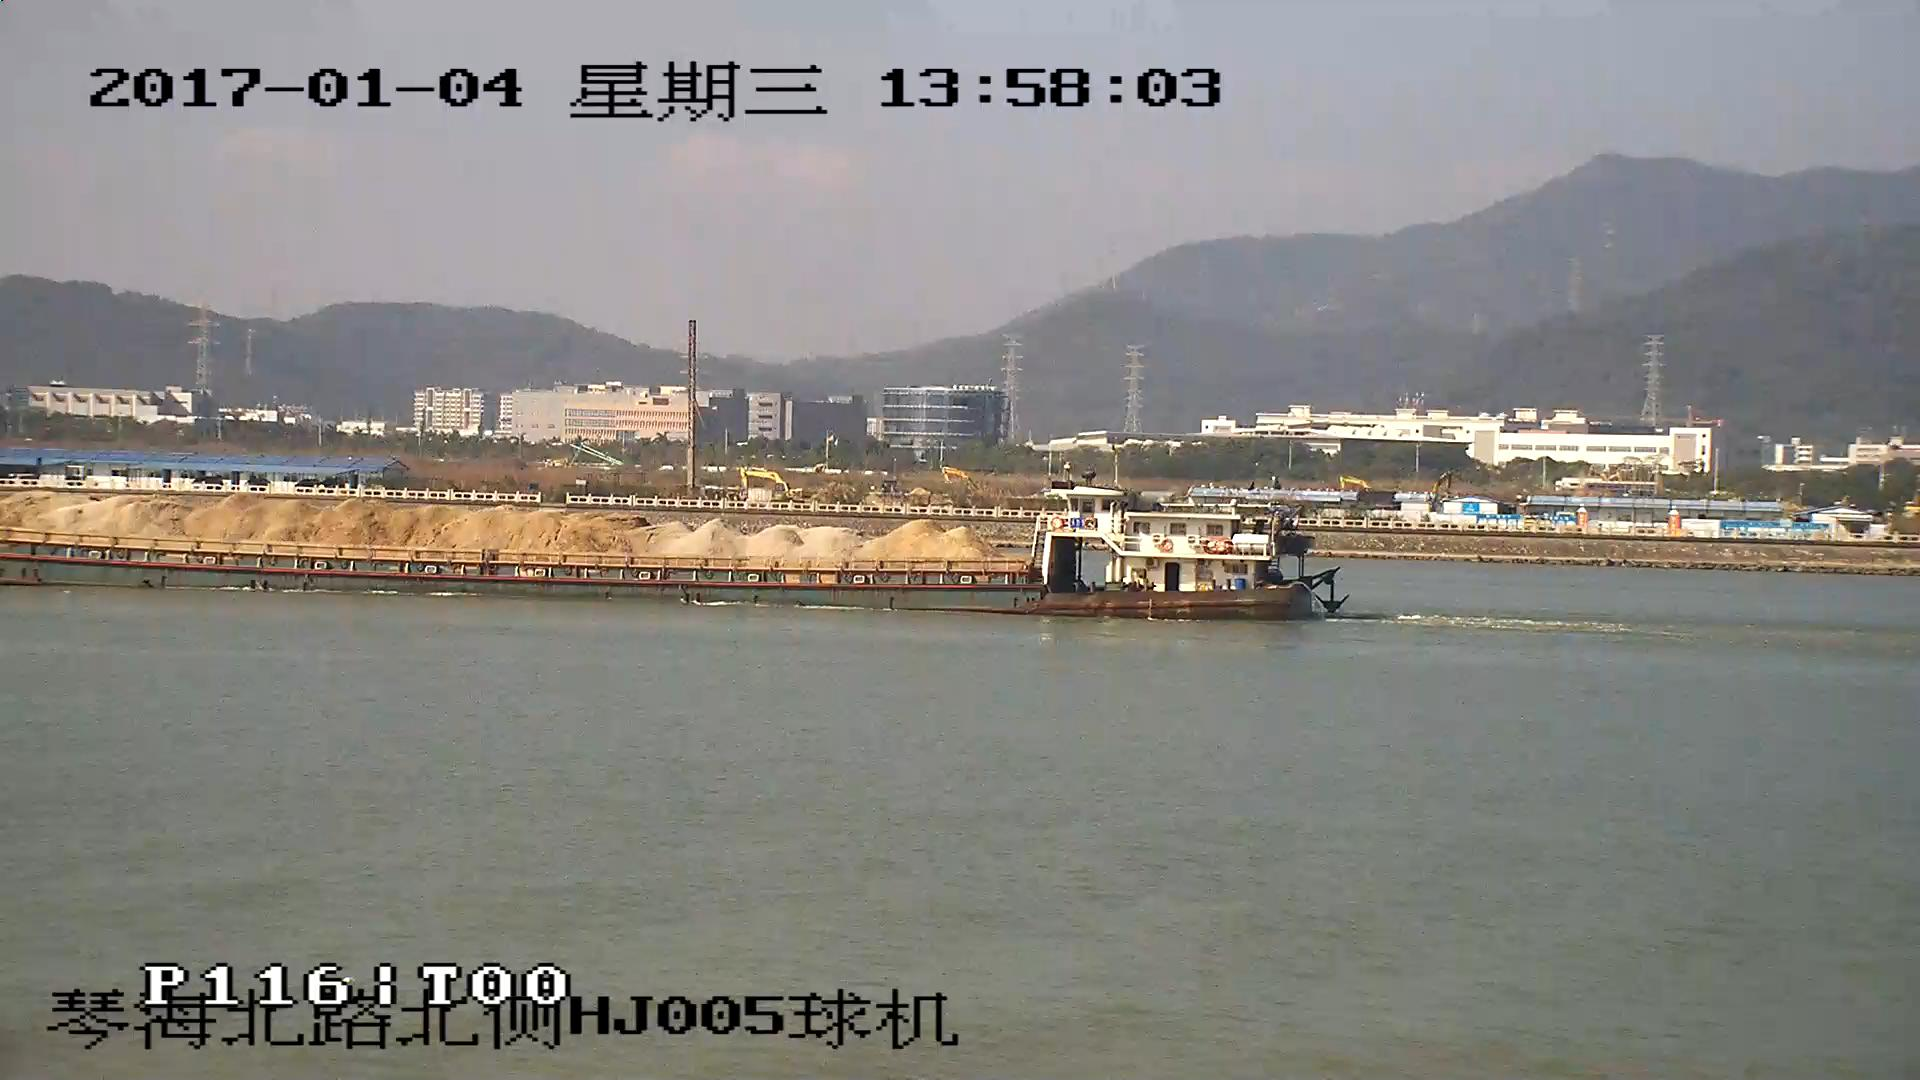ore carrier: (1, 484, 1343, 621)
